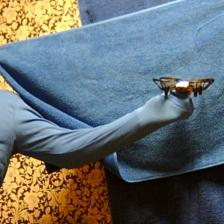drone: (152, 76, 214, 97)
